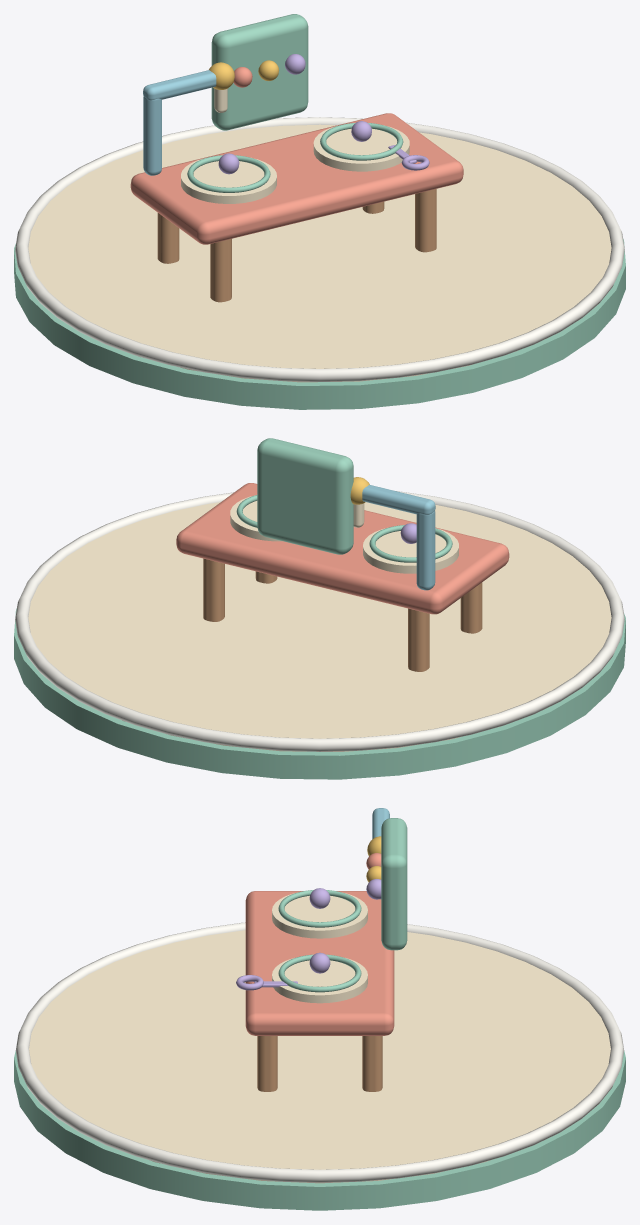
The model's file is create.glb.
3 views of the same model, one above another, from view 1: azimuth 30°, elevation 25°; view 2: azimuth 150°, elevation 25°; view 3: azimuth 270°, elevation 25° (orthographic).
Visible parts, largest first — view 1: Island, Workshop, carnival_create, AssemblyArm; view 2: Island, Workshop, carnival_create, AssemblyArm; view 3: Island, Workshop, carnival_create, AssemblyArm.
Boxes of the visible parts, x1=… form: Island: x1=14, y1=117, x2=625, y2=409; Workshop: x1=130, y1=113, x2=463, y2=302; carnival_create: x1=211, y1=14, x2=308, y2=130; AssemblyArm: x1=143, y1=62, x2=234, y2=175; Island: x1=14, y1=491, x2=625, y2=779; Workshop: x1=176, y1=483, x2=509, y2=671; carnival_create: x1=257, y1=438, x2=353, y2=554; AssemblyArm: x1=350, y1=477, x2=435, y2=590; Island: x1=14, y1=922, x2=625, y2=1210; Workshop: x1=245, y1=888, x2=394, y2=1091; carnival_create: x1=366, y1=818, x2=407, y2=950; AssemblyArm: x1=367, y1=808, x2=389, y2=899.
Bounding box in the file's own units: 7 × 2.95 × 7.
